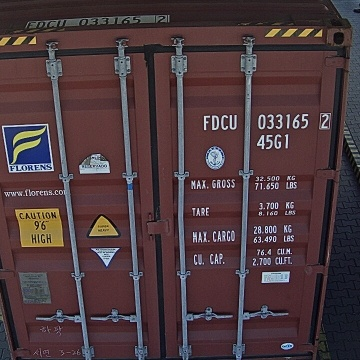serial_id: (203, 113, 330, 130)
